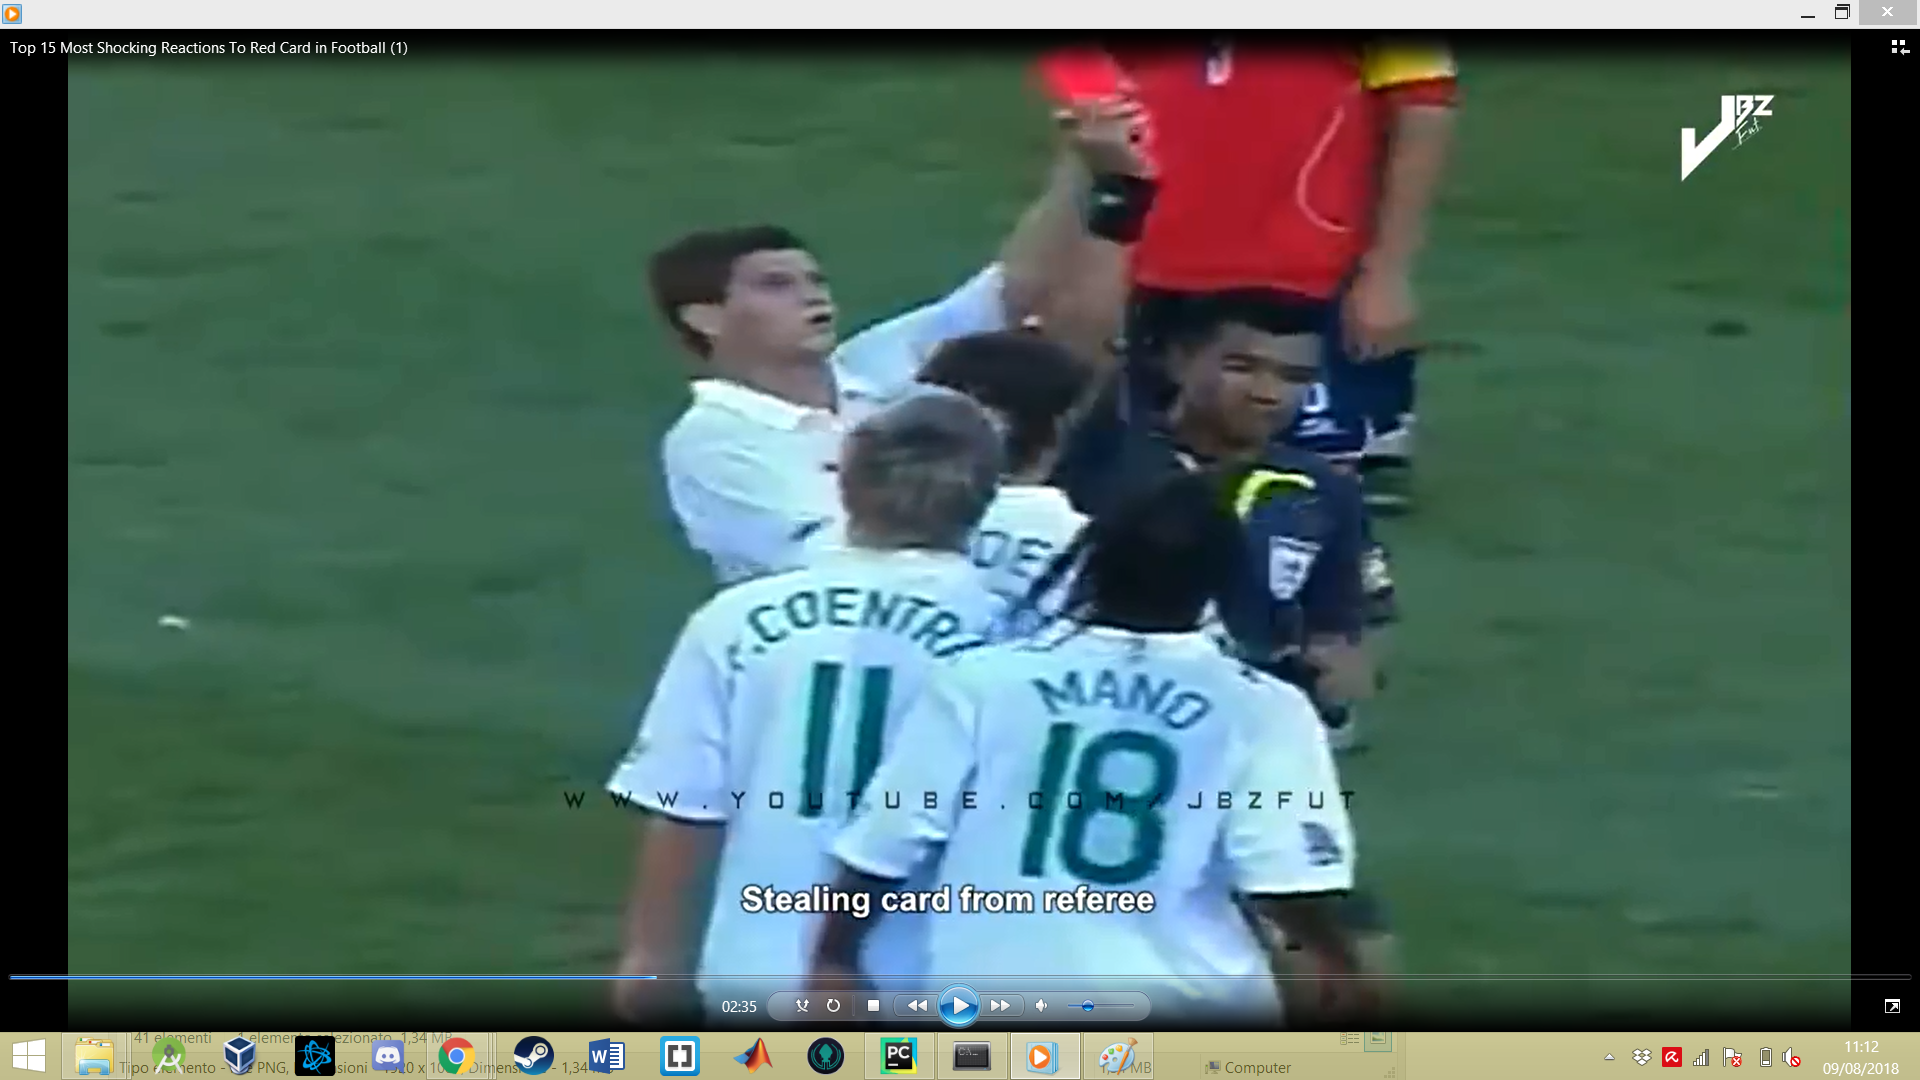red_card: (1029, 55, 1167, 200)
